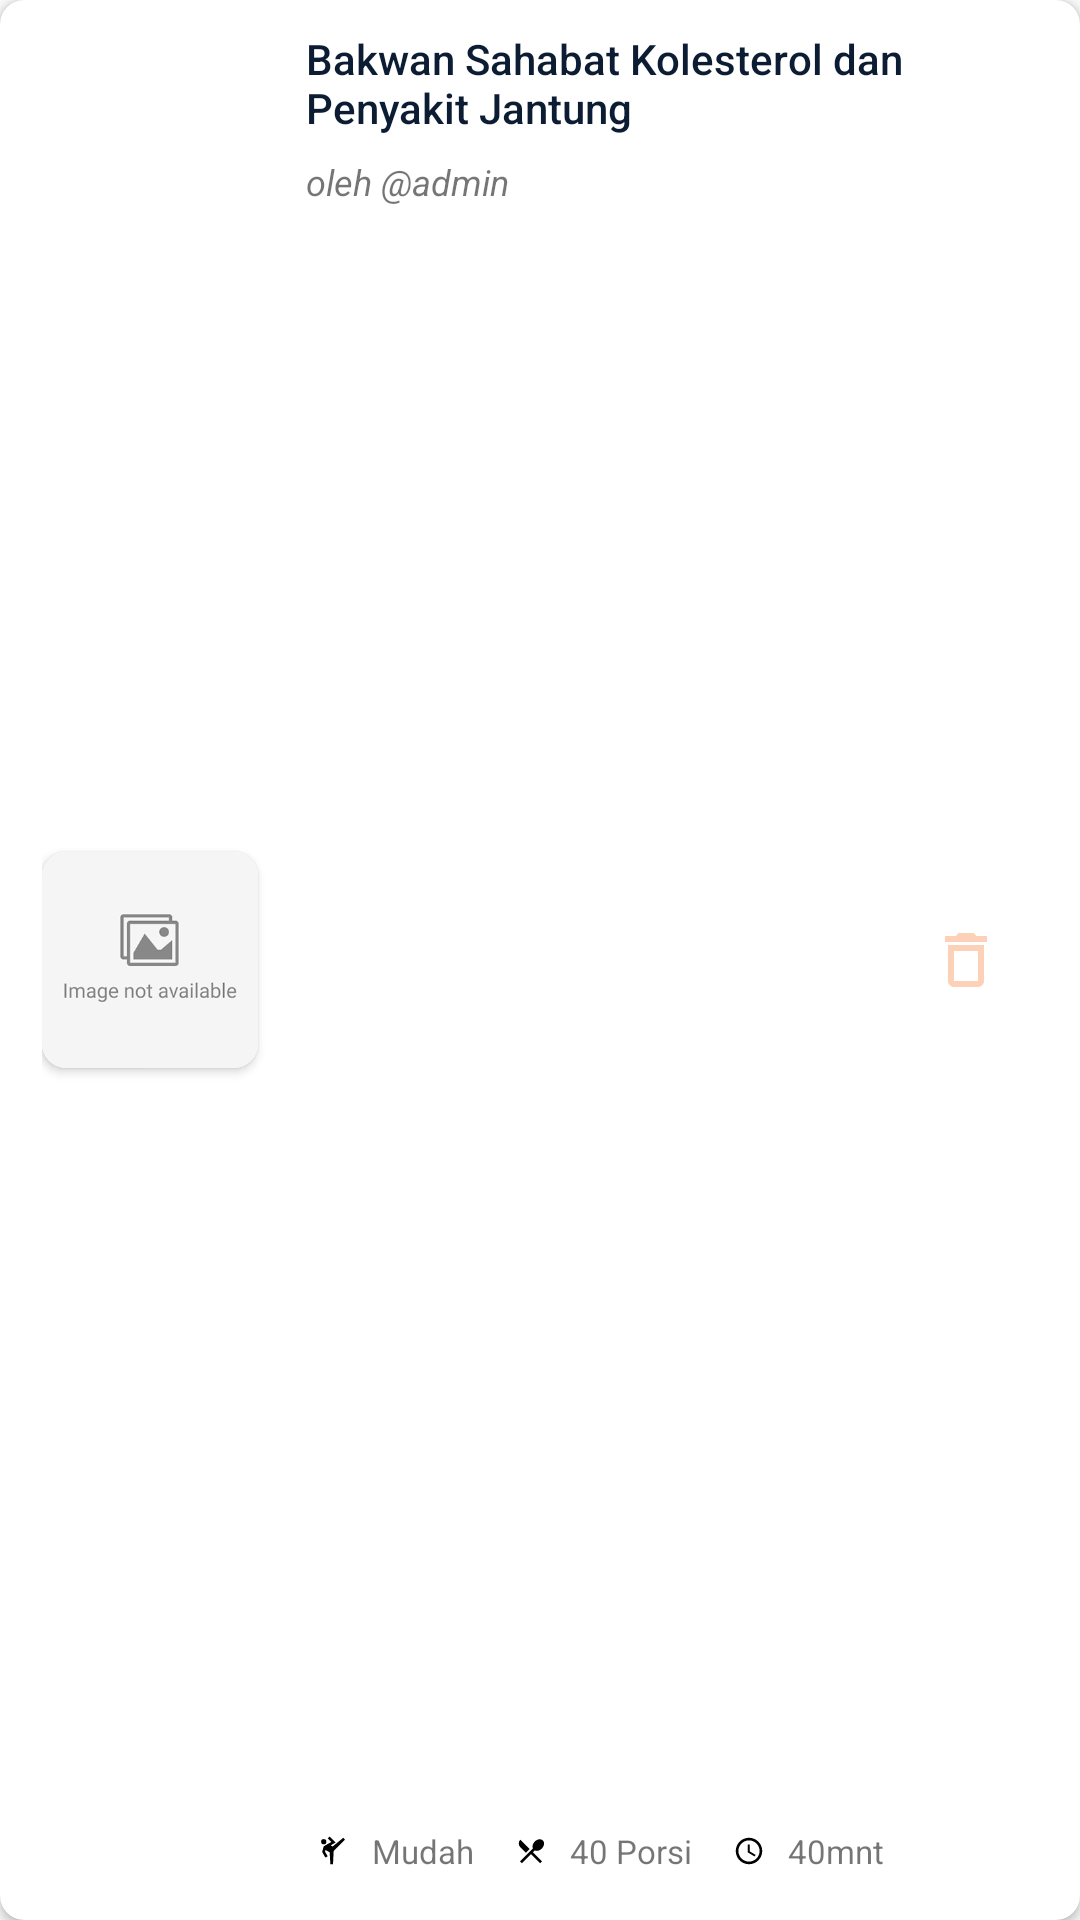

Screen size 1080 × 1920. Icon name, then its box in pixels as {"x1": x1, "y1": y1, "x2": x2, "y2": y2}:
delete: {"x1": 945, "y1": 933, "x2": 987, "y2": 987}
martial: {"x1": 321, "y1": 1836, "x2": 345, "y2": 1865}
portion: {"x1": 518, "y1": 1839, "x2": 544, "y2": 1863}
time: {"x1": 735, "y1": 1837, "x2": 763, "y2": 1865}
